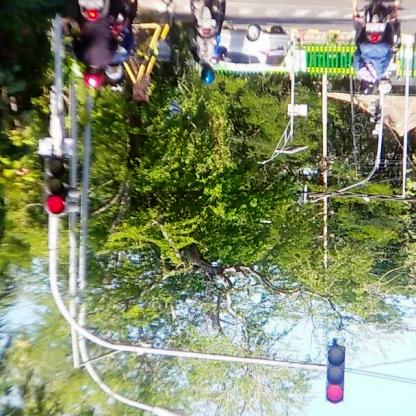Traffic Light -Red-: (44, 154, 66, 216), (325, 344, 346, 404)
